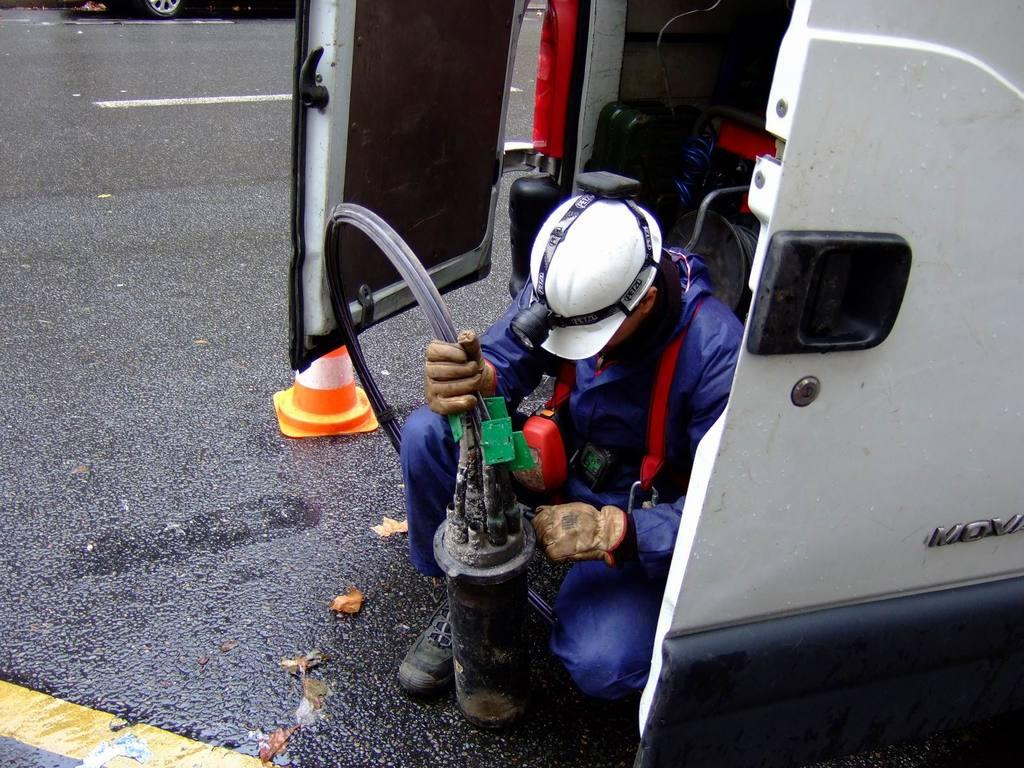helmet: (529, 193, 663, 361)
